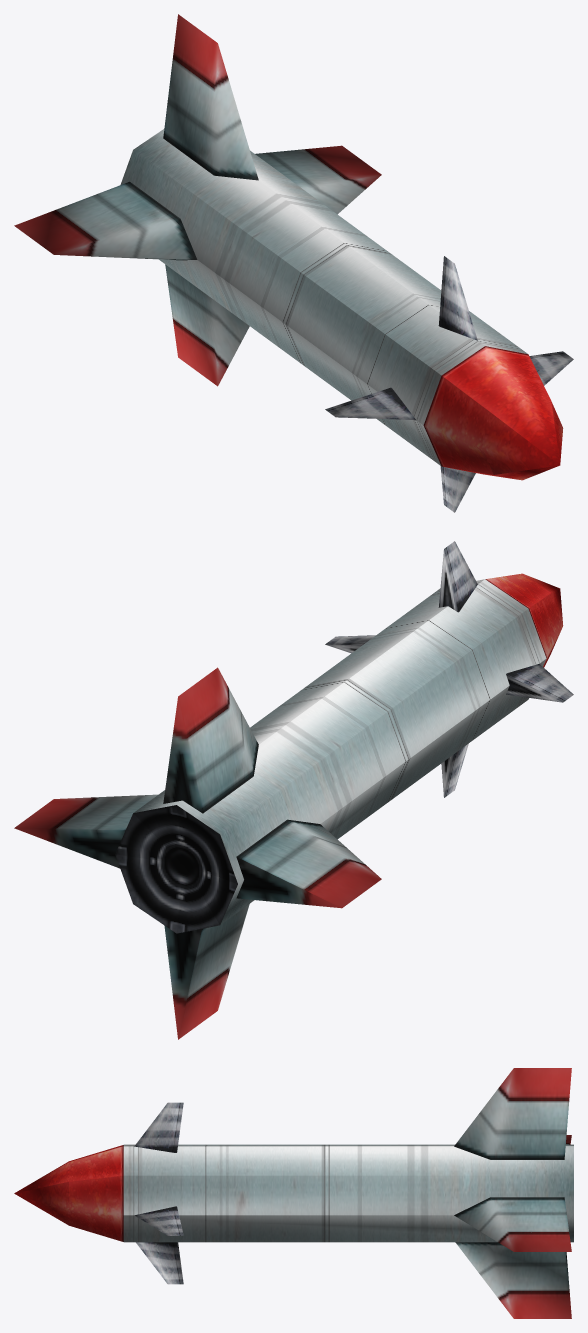
The model's file is rocket.obj.
3 renders of one model, top to bottom at view 1: azimuth 30°, elevation 25°; view 2: azimuth 150°, elevation 25°; view 3: azimuth 270°, elevation 25°, orthographic. The views are drawn at different scales.
Parts seen in each view (by area): view 1: missile; view 2: missile; view 3: missile.
Part boxes in pixels (bbox=[...]): missile: bbox=[14, 14, 573, 512]; missile: bbox=[14, 541, 573, 1039]; missile: bbox=[14, 1068, 573, 1318].
Bounding box in the file's own units: 3.92 × 3.92 × 7.93.
Materials: 1 (1 with a texture image).
